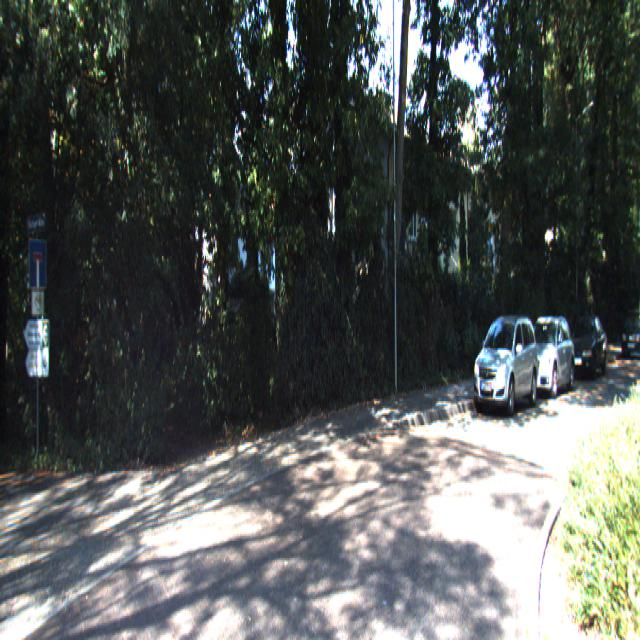Car: (472, 311, 539, 418), (517, 314, 575, 401), (567, 312, 606, 379)
